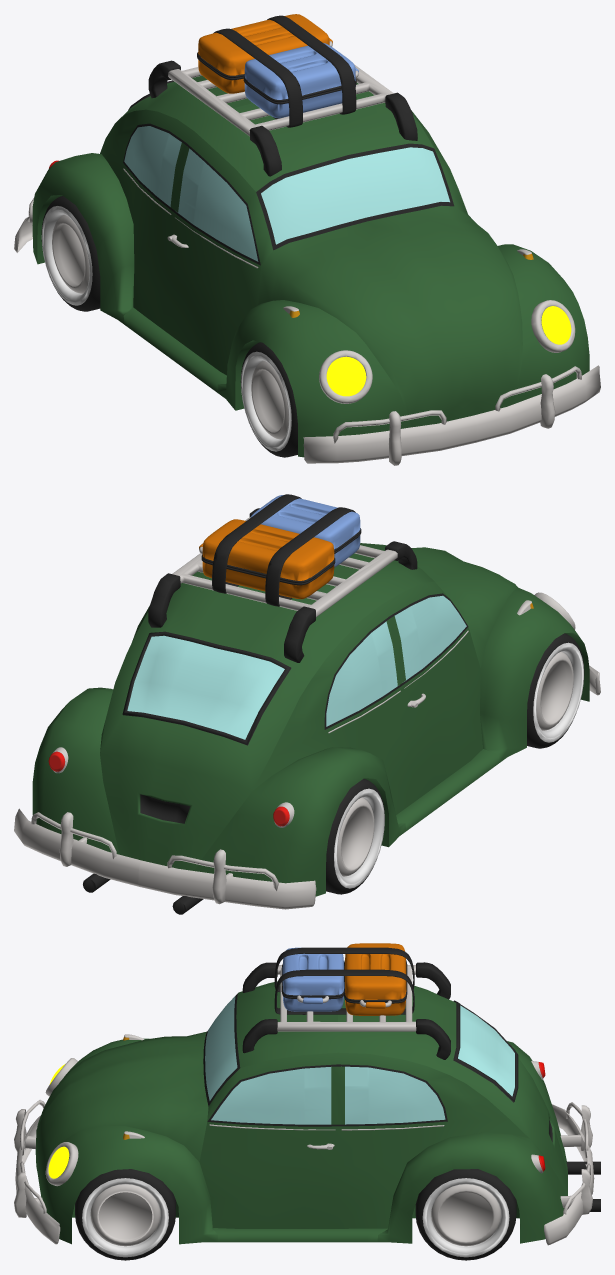
The model's file is Car_1.fbx.
The picture shows the model from 3 angles, top to bottom: view 1: azimuth 30°, elevation 25°; view 2: azimuth 150°, elevation 25°; view 3: azimuth 270°, elevation 25°; orthographic projection. The views are drawn at different scales.
Parts seen in each view (by area): view 1: Cube.053; view 2: Cube.053; view 3: Cube.053.
Part boxes in pixels (x1,y1,x2,y2): Cube.053: [14, 14, 600, 465]; Cube.053: [14, 494, 600, 914]; Cube.053: [14, 943, 600, 1260].
Bounding box in the file's own units: 188 × 169 × 372.
